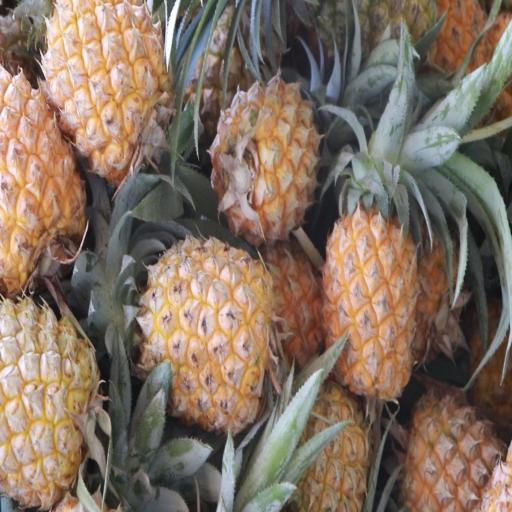------------------------------: (403, 398, 508, 512)
Pineapple - v8 v1: (143, 234, 273, 424), (48, 0, 170, 192), (0, 303, 102, 510), (0, 64, 87, 290), (322, 196, 420, 396), (215, 77, 318, 236), (288, 383, 373, 512)
